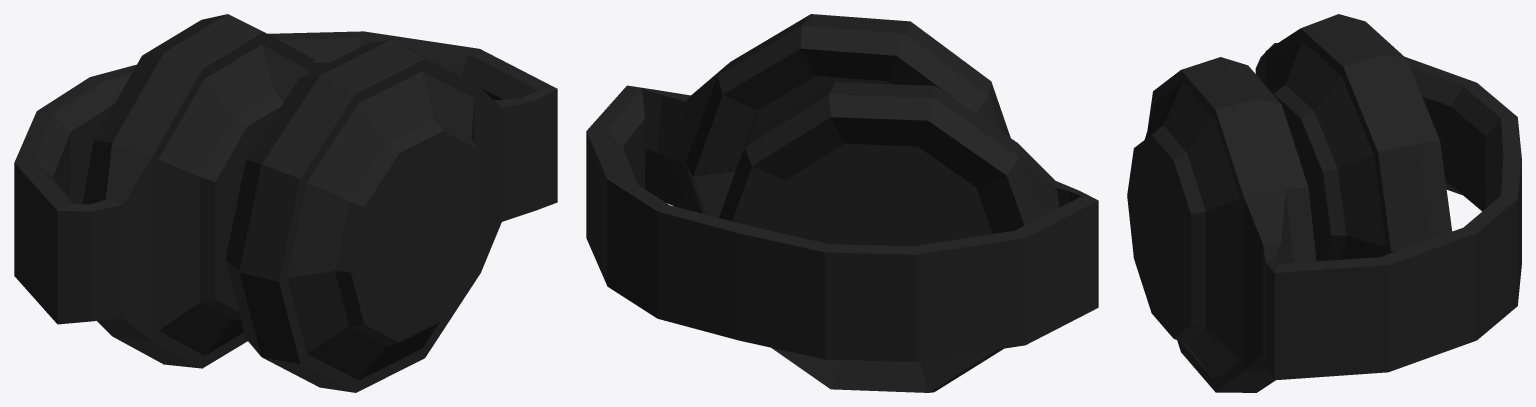
Rendered from HeadphonesV2Black.fbx.
3 views of the same model, side by side, from view 1: azimuth 30°, elevation 25°; view 2: azimuth 150°, elevation 25°; view 3: azimuth 270°, elevation 25° (orthographic). The views are drawn at different scales.
Parts seen in each view (by area): view 1: HeadphonesV2Black; view 2: HeadphonesV2Black; view 3: HeadphonesV2Black.
Part boxes in pixels (<box>): HeadphonesV2Black: <box>14,14,557,392</box>; HeadphonesV2Black: <box>586,14,1098,392</box>; HeadphonesV2Black: <box>1127,14,1521,392</box>.
Size of the model in its own units: 24.13 by 14.38 by 17.49.
